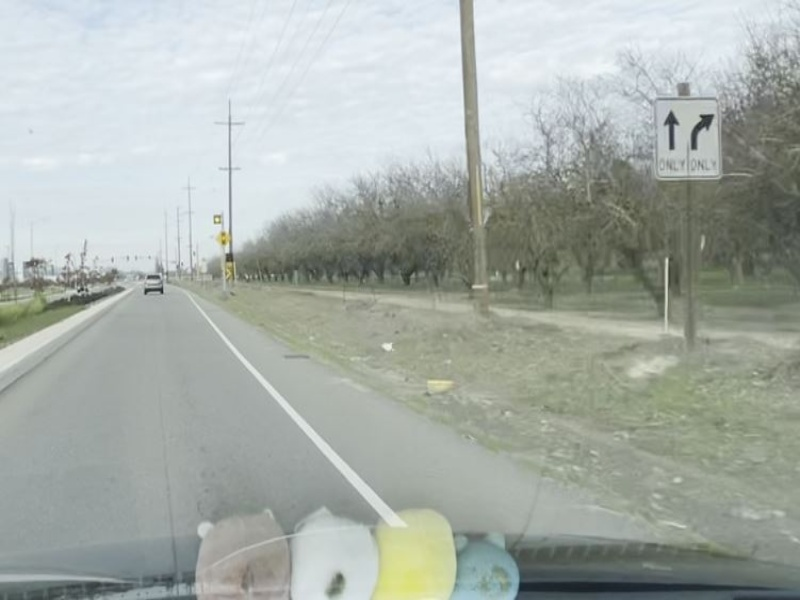street light sign: (212, 229, 234, 246)
turn sign: (650, 96, 722, 183)
